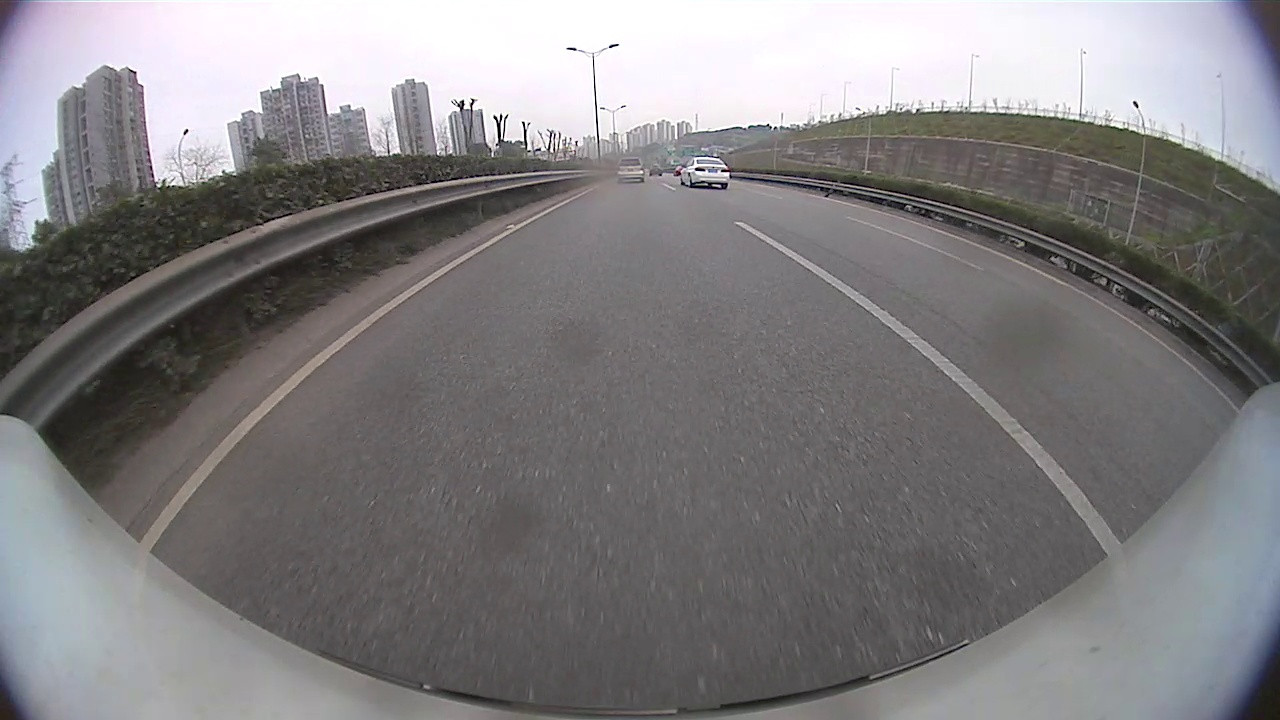car: (678, 154, 731, 190), (616, 155, 646, 184)
